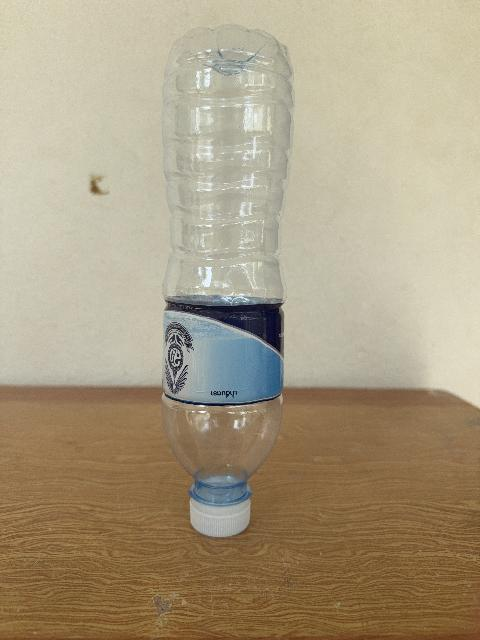bottle: (163, 26, 293, 536)
